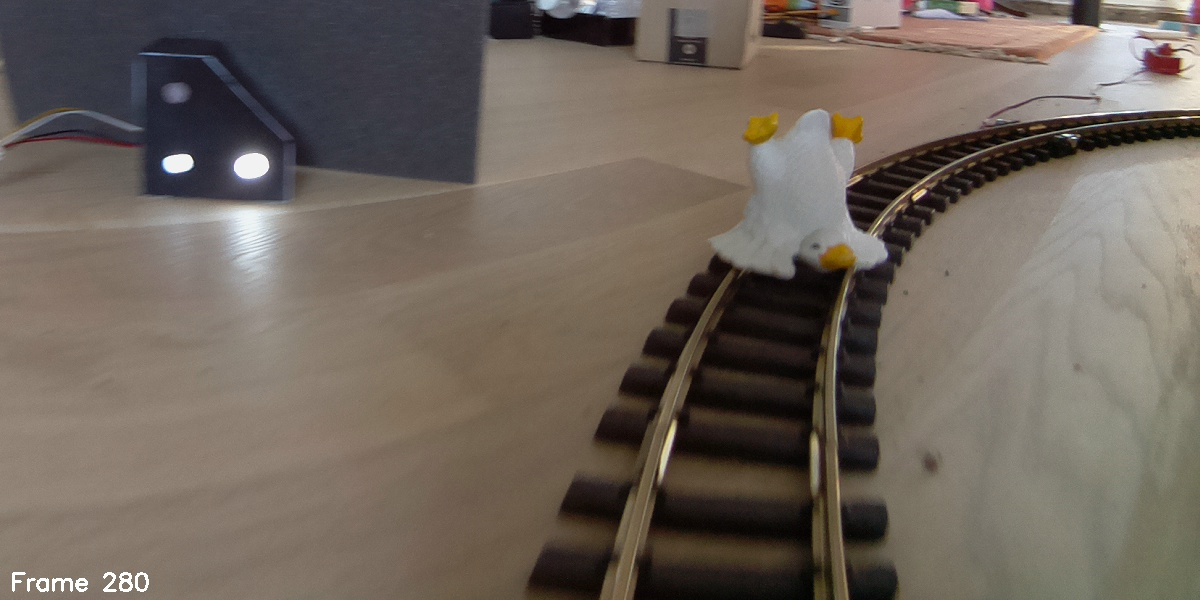Halt: (139, 52, 292, 203)
